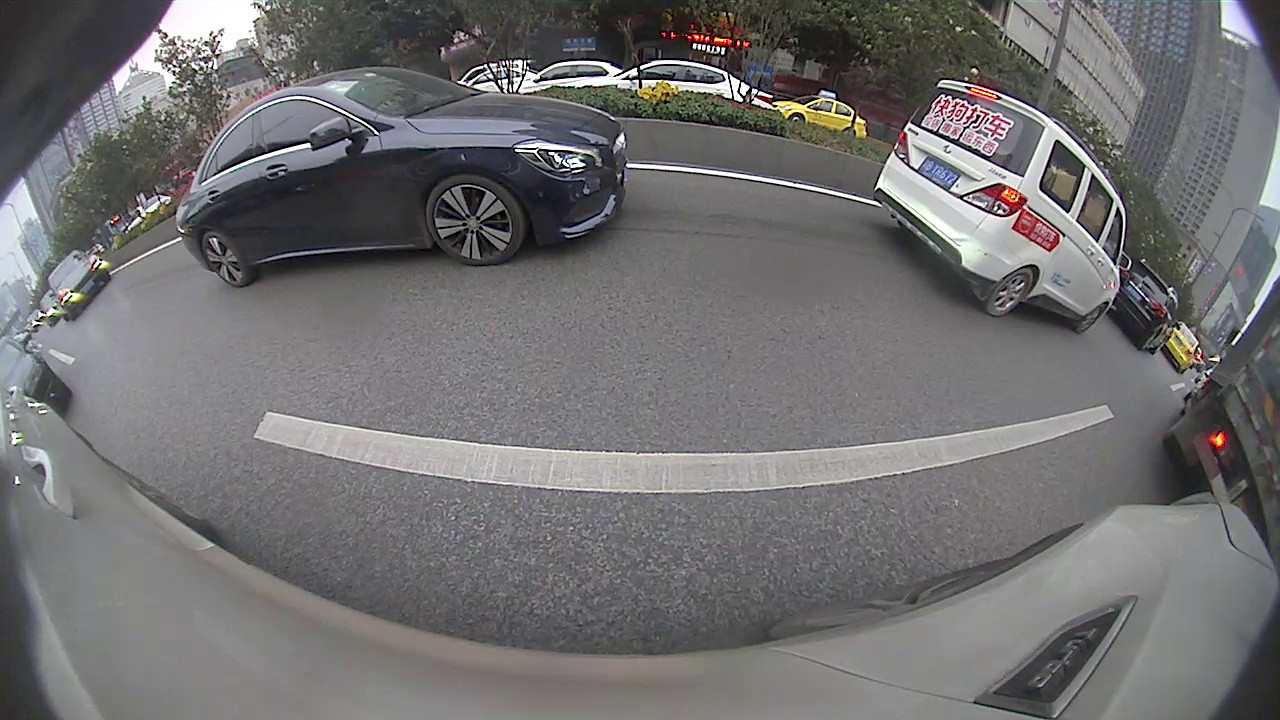car: (175, 65, 627, 288), (876, 76, 1130, 334), (1108, 261, 1178, 355), (45, 249, 112, 319), (1163, 324, 1203, 373)
front: (422, 180, 521, 265), (1075, 303, 1111, 335)
rear: (985, 267, 1037, 319), (199, 232, 247, 287)
